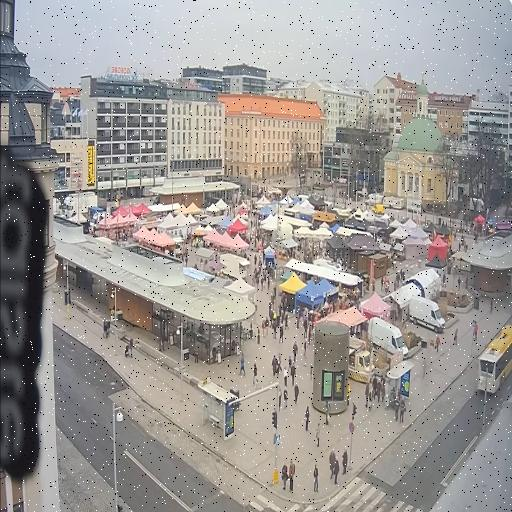Bus: (477, 325, 511, 393)
Delivery: (367, 317, 407, 359), (408, 297, 444, 333), (348, 336, 372, 383)
